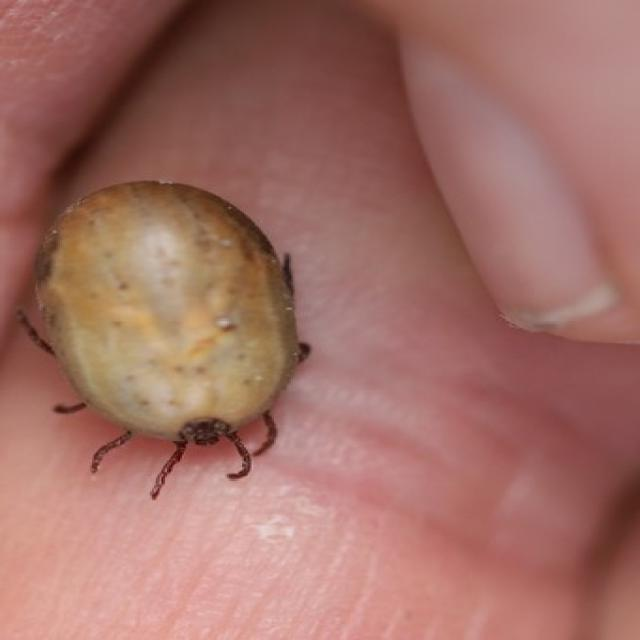Dermacentor Reticulatus-F-Fed: (24, 182, 312, 502)
